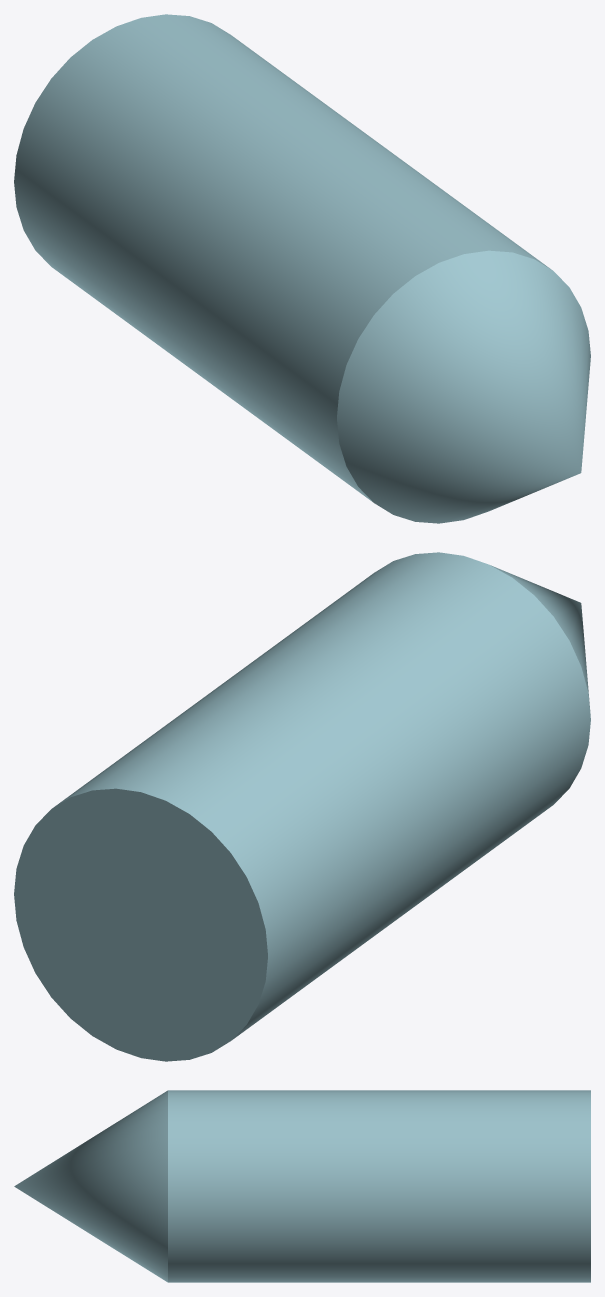
Rendered from rocket_main_body.obj.
3 renders of one model, top to bottom at view 1: azimuth 30°, elevation 25°; view 2: azimuth 150°, elevation 25°; view 3: azimuth 270°, elevation 25°, orthographic. The views are drawn at different scales.
Bounding box in the file's own units: 1 × 1 × 3.
